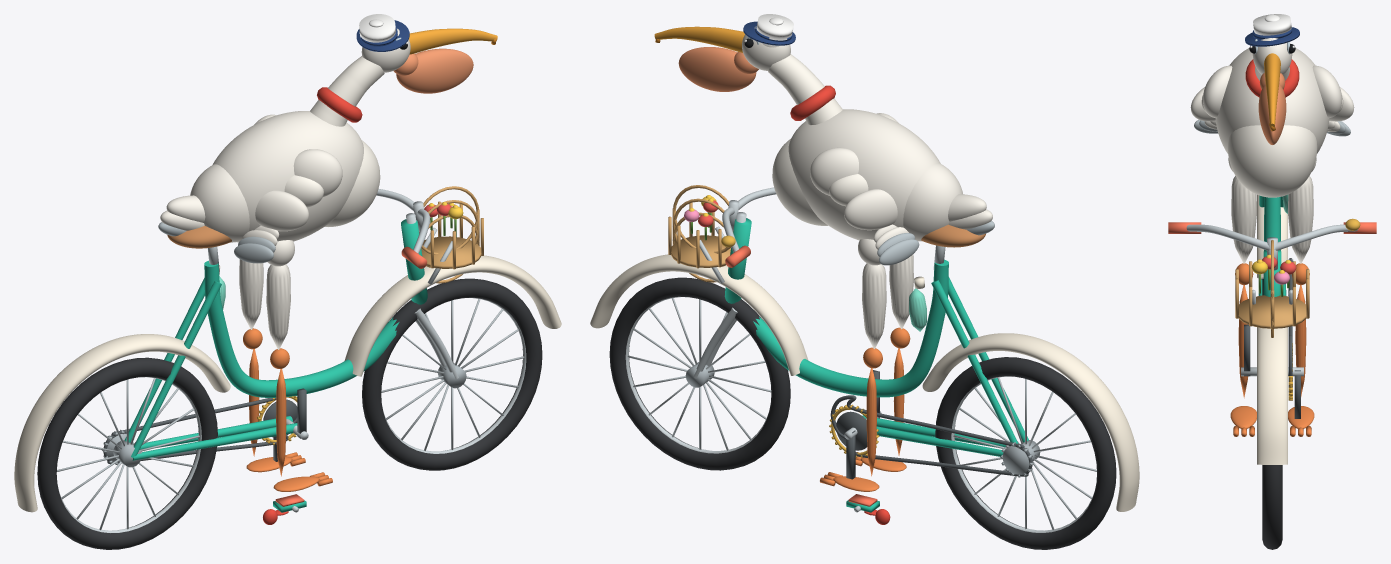
The model's file is rig.glb.
3 renders of one model, left to right at view 1: azimuth 30°, elevation 25°; view 2: azimuth 150°, elevation 25°; view 3: azimuth 270°, elevation 25°, orthographic. The views are drawn at different scales.
Parts seen in each view (by area): view 1: Torso, WR_geo, WF_geo, Fenders, Frame, WingGeoR, Basket, pouch_main, ThighGeoR, neck_tube, Hat, ThighGeoL (+10 smaller); view 2: Torso, WR_geo, WF_geo, Fenders, Frame, WingGeoL, Basket, pouch_main, ThighGeoL, neck_tube, CrankGeo, Chain (+10 smaller); view 3: Torso, Fenders, Basket, Bars, WF_geo, WingGeoL, WingGeoR, ThighGeoL, ThighGeoR, Hat, Frame, CrankGeo (+10 smaller).
Boxes of the visible parts, bbox=[...] form: Torso: bbox=[158, 111, 380, 242]; WR_geo: bbox=[37, 357, 217, 549]; WF_geo: bbox=[362, 278, 542, 470]; Fenders: bbox=[14, 255, 561, 512]; Frame: bbox=[124, 213, 458, 460]; WingGeoR: bbox=[234, 149, 342, 263]; Basket: bbox=[419, 186, 483, 284]; pouch_main: bbox=[396, 48, 473, 93]; ThighGeoR: bbox=[266, 240, 294, 349]; neck_tube: bbox=[310, 56, 384, 126]; Hat: bbox=[356, 14, 409, 51]; ThighGeoL: bbox=[239, 259, 263, 329]; Torso: bbox=[772, 109, 994, 241]; WR_geo: bbox=[935, 357, 1116, 549]; WF_geo: bbox=[609, 277, 790, 470]; Fenders: bbox=[590, 254, 1139, 511]; Frame: bbox=[693, 212, 1028, 456]; WingGeoL: bbox=[810, 147, 919, 265]; Basket: bbox=[668, 185, 733, 283]; pouch_main: bbox=[678, 47, 756, 91]; ThighGeoL: bbox=[858, 239, 886, 348]; neck_tube: bbox=[768, 54, 842, 124]; CrankGeo: bbox=[829, 370, 881, 479]; Chain: bbox=[830, 395, 1032, 476]; Torso: bbox=[1215, 48, 1329, 197]; Fenders: bbox=[1257, 194, 1287, 464]; Basket: bbox=[1235, 240, 1309, 337]; Bars: bbox=[1168, 222, 1376, 270]; WF_geo: bbox=[1262, 465, 1282, 549]; WingGeoL: bbox=[1312, 65, 1354, 136]; WingGeoR: bbox=[1190, 65, 1232, 133]; ThighGeoL: bbox=[1288, 158, 1316, 263]; ThighGeoR: bbox=[1228, 158, 1256, 263]; Hat: bbox=[1245, 14, 1299, 46]; Frame: bbox=[1258, 195, 1286, 296]; CrankGeo: bbox=[1241, 324, 1303, 418].
Size of the model in its own units: 2.06 by 1.74 by 0.661.
